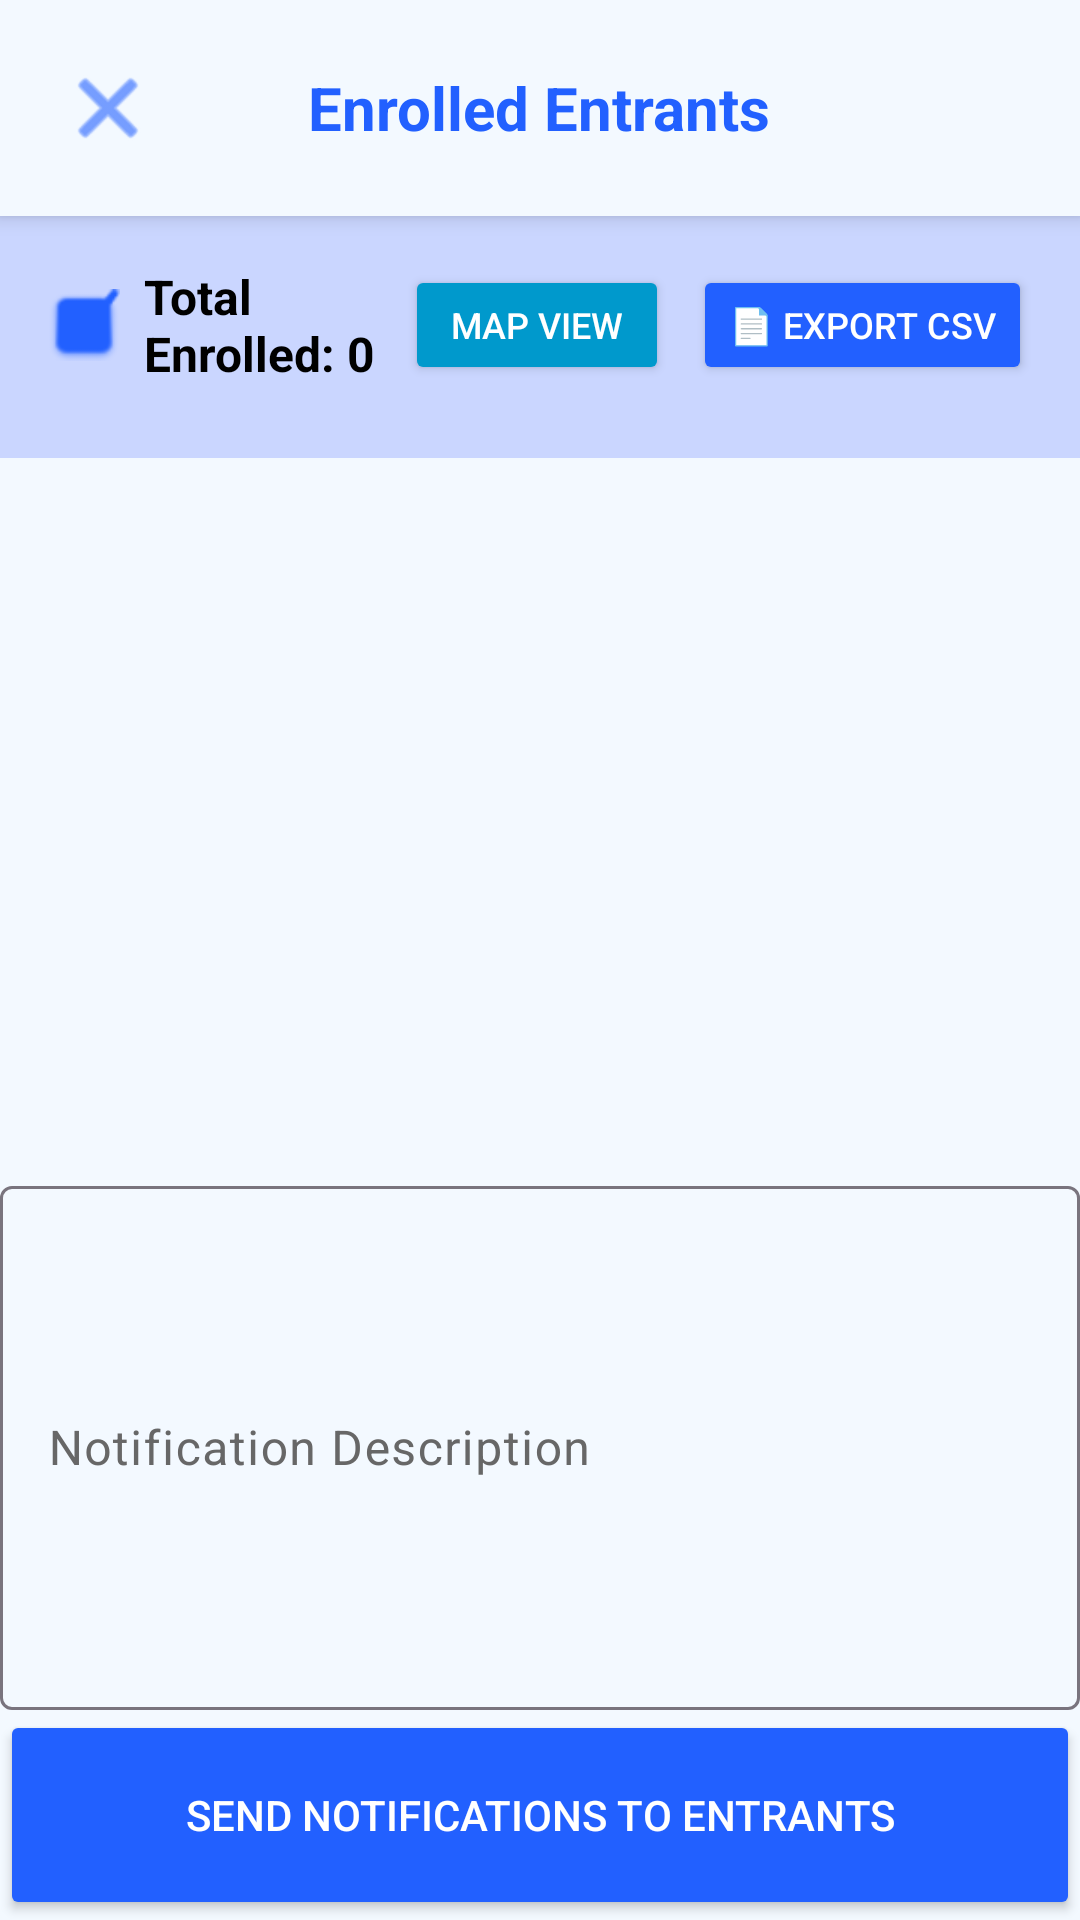

Locate icon controls on the screen. Image size 1080 x 1920, boxes as (x1, y1, x2, y2).
Back: (78, 78, 138, 138)
